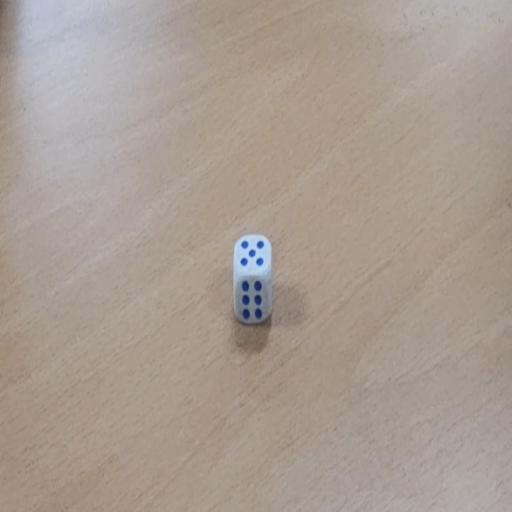dice_5: (234, 233, 274, 326)
